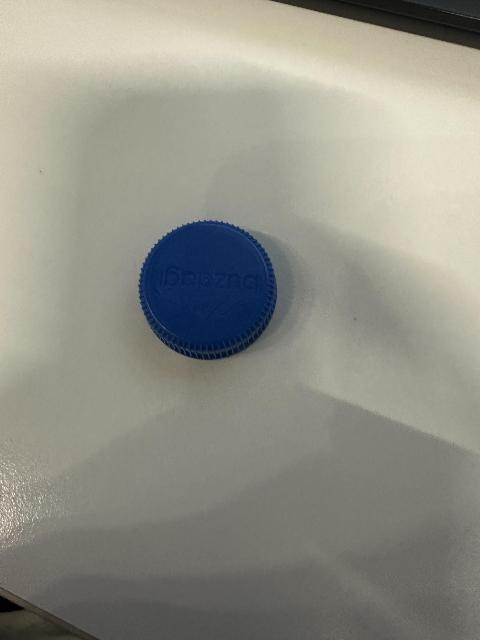Plastik: (135, 219, 283, 360)
